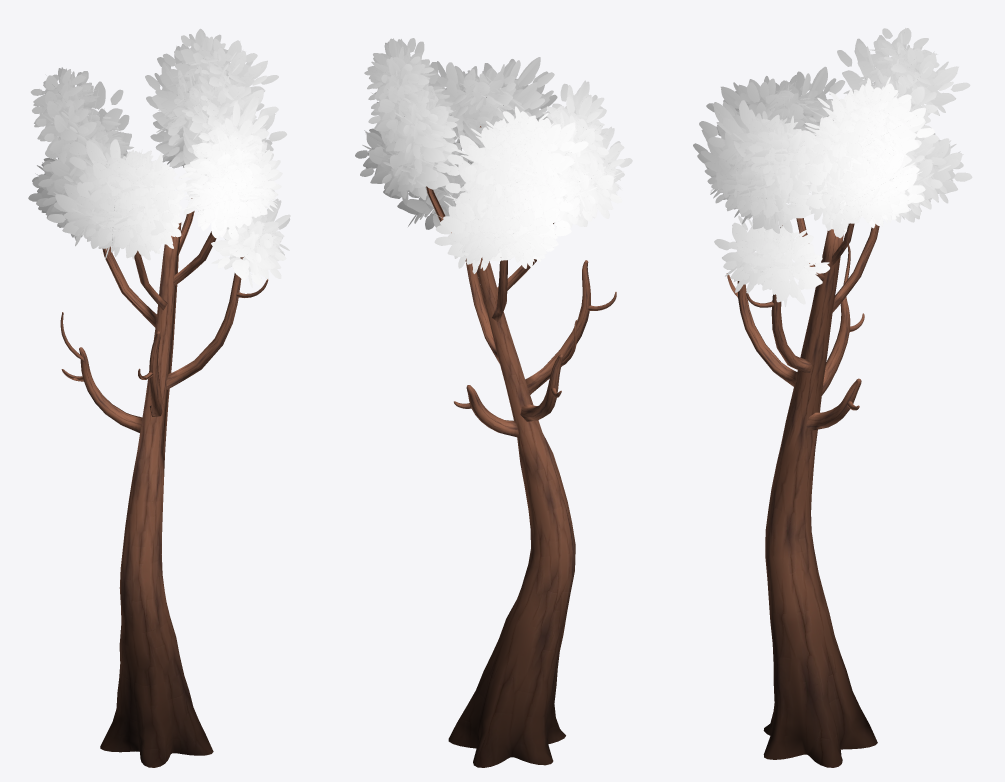
File: CommonTree_4.glb
3 renders of one model, left to right at view 1: azimuth 30°, elevation 25°; view 2: azimuth 150°, elevation 25°; view 3: azimuth 270°, elevation 25°, orthographic. The views are drawn at different scales.
Parts seen in each view (by area): view 1: CommonTree_4; view 2: CommonTree_4; view 3: CommonTree_4.
Part boxes in pixels (x1=…): CommonTree_4: x1=28, y1=28, x2=290, y2=767; CommonTree_4: x1=355, y1=38, x2=632, y2=767; CommonTree_4: x1=693, y1=28, x2=972, y2=767.
Size of what is drawn, in the model's own units: 3.83 by 9.44 by 3.76.
Materials: 2 (2 with a texture image).
